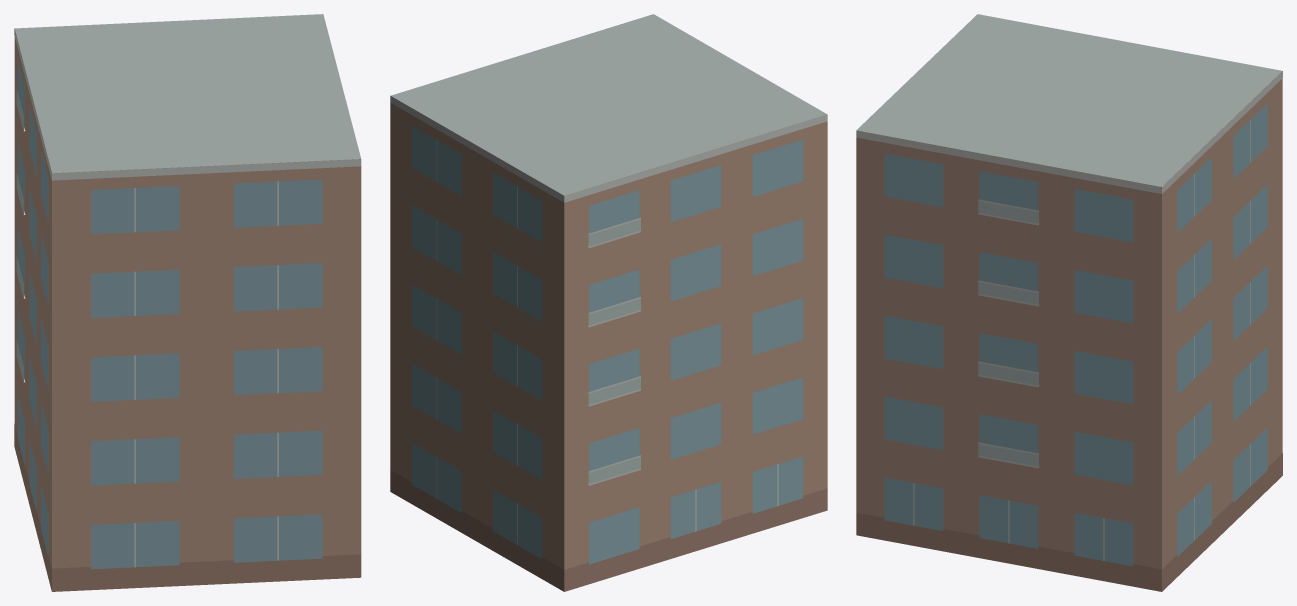
File: survey-upis-33043181.glb
3 renders of one model, left to right at view 1: azimuth 30°, elevation 25°; view 2: azimuth 150°, elevation 25°; view 3: azimuth 270°, elevation 25°, orthographic. The views are drawn at different scales.
Visible parts, largest first — view 1: survey-upis-33043181.tmp; view 2: survey-upis-33043181.tmp; view 3: survey-upis-33043181.tmp.
Boxes of the visible parts, x1,y1,x2,y2 form: survey-upis-33043181.tmp: (14, 14, 361, 591); survey-upis-33043181.tmp: (390, 14, 827, 591); survey-upis-33043181.tmp: (856, 14, 1282, 591).
Bounding box in the file's own units: 12.75 × 13.9 × 13.28.
